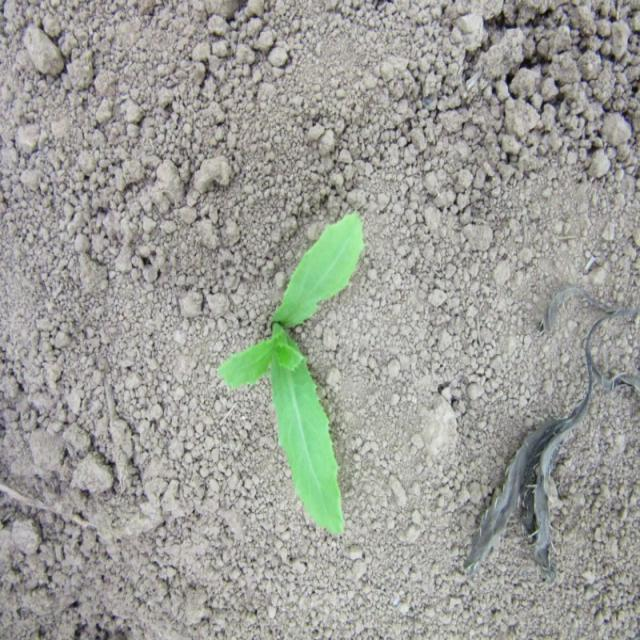field_thistle: (198, 192, 386, 553)
